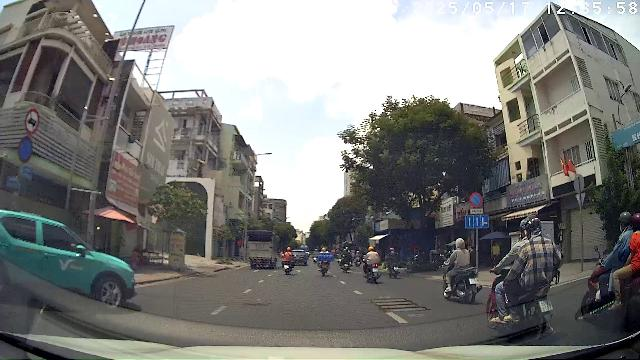131a-cam-do-xe: (470, 192, 482, 208)
